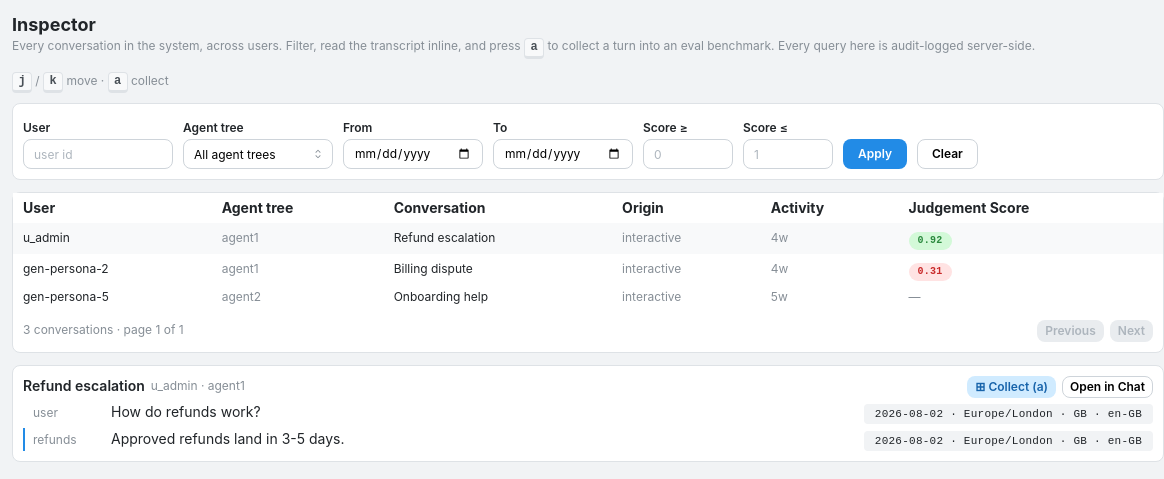
Scenario: inspector table › sends the tree filter as ?tree=
Expected: the number of rows with test id "inspector-row" is 3, [13,223,1163,254]; [13,254,1163,285]; [13,285,1163,310]
Click the dropdown labelled "Agent tree". click: (258, 154)
box: [183,139,333,169]
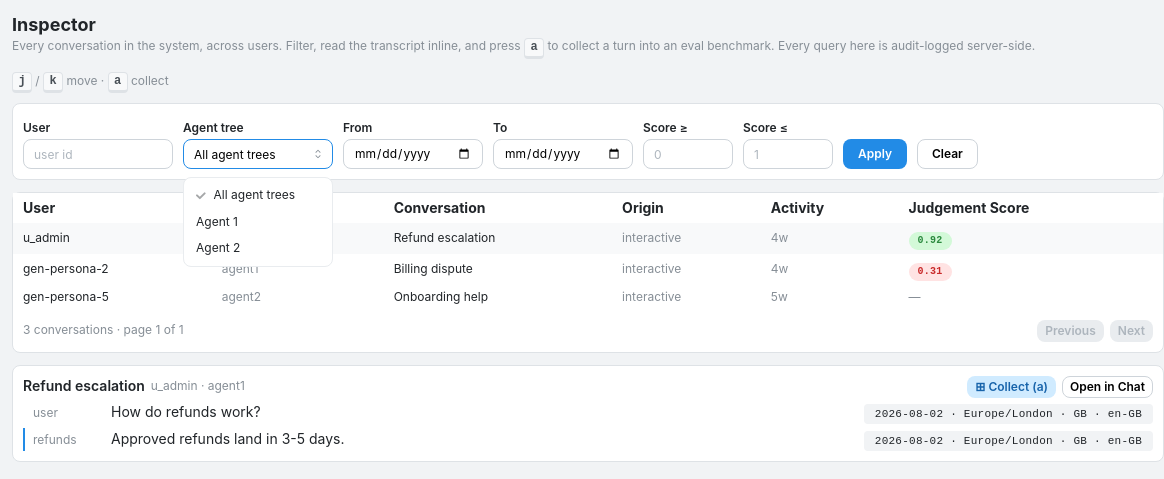
Click the option "Agent 2". click: (218, 248)
box: [196,240,240,255]
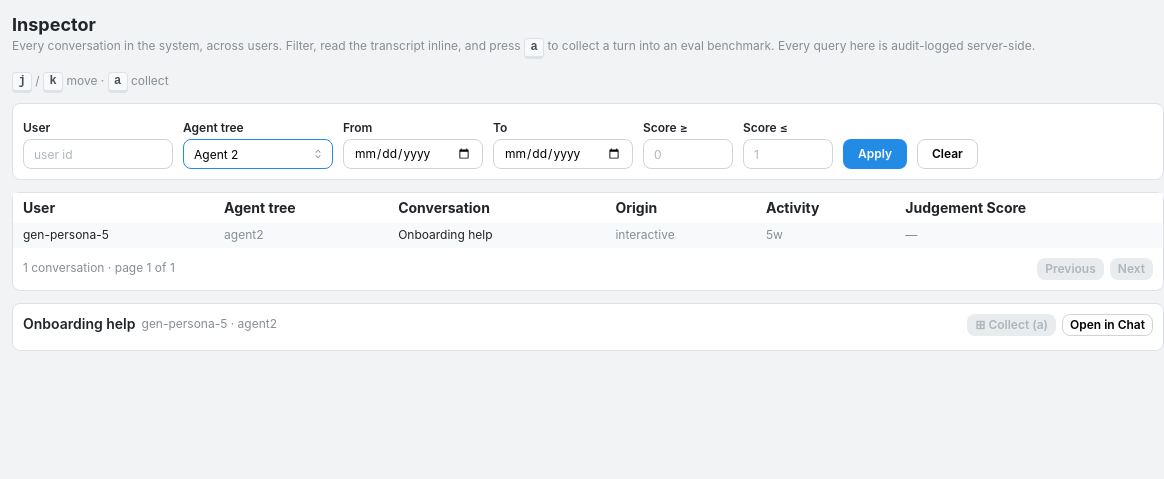
Expected: the text "agent2" is shown, [224,227,263,242]
Result: the number of rows with test id "inspector-row" is 1 at [13,223,1163,248]
